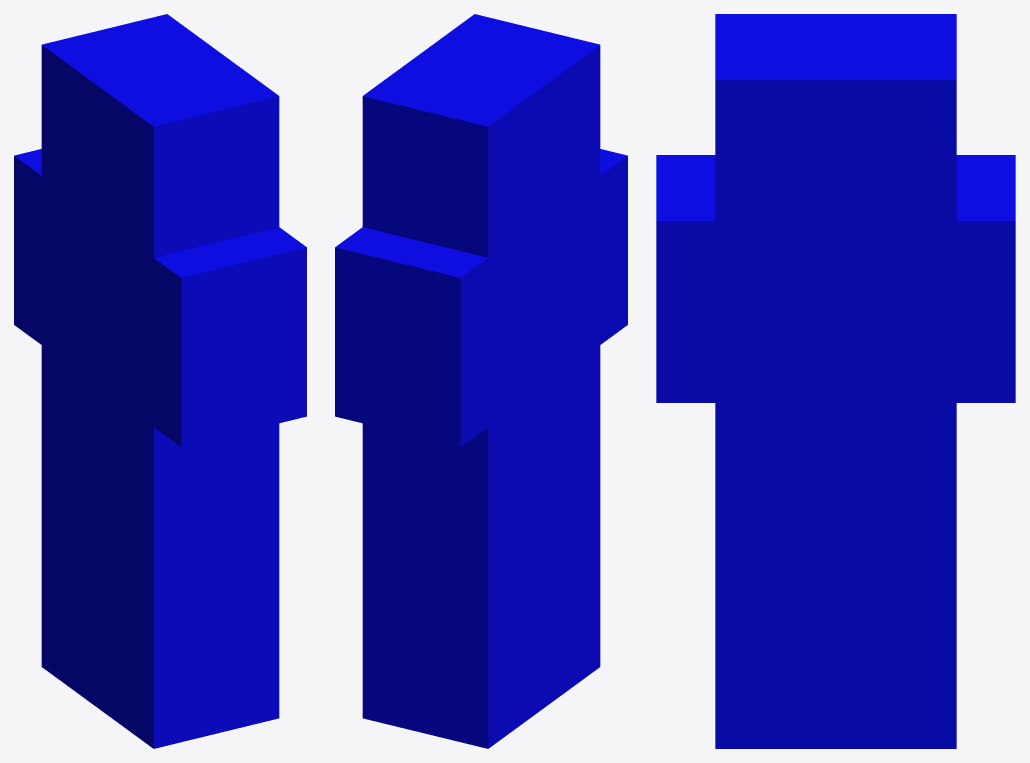
File: PlayerPlaceholder.fbx
3 renders of one model, left to right at view 1: azimuth 30°, elevation 25°; view 2: azimuth 150°, elevation 25°; view 3: azimuth 270°, elevation 25°, orthographic. The views are drawn at different scales.
Visible parts, largest first — view 1: Cube; view 2: Cube; view 3: Cube.
Boxes of the visible parts, bbox=[...] form: Cube: bbox=[14, 14, 306, 748]; Cube: bbox=[335, 14, 627, 748]; Cube: bbox=[656, 14, 1015, 748].
Size of the model in its own units: 0.8172 by 3.87 by 1.88.
